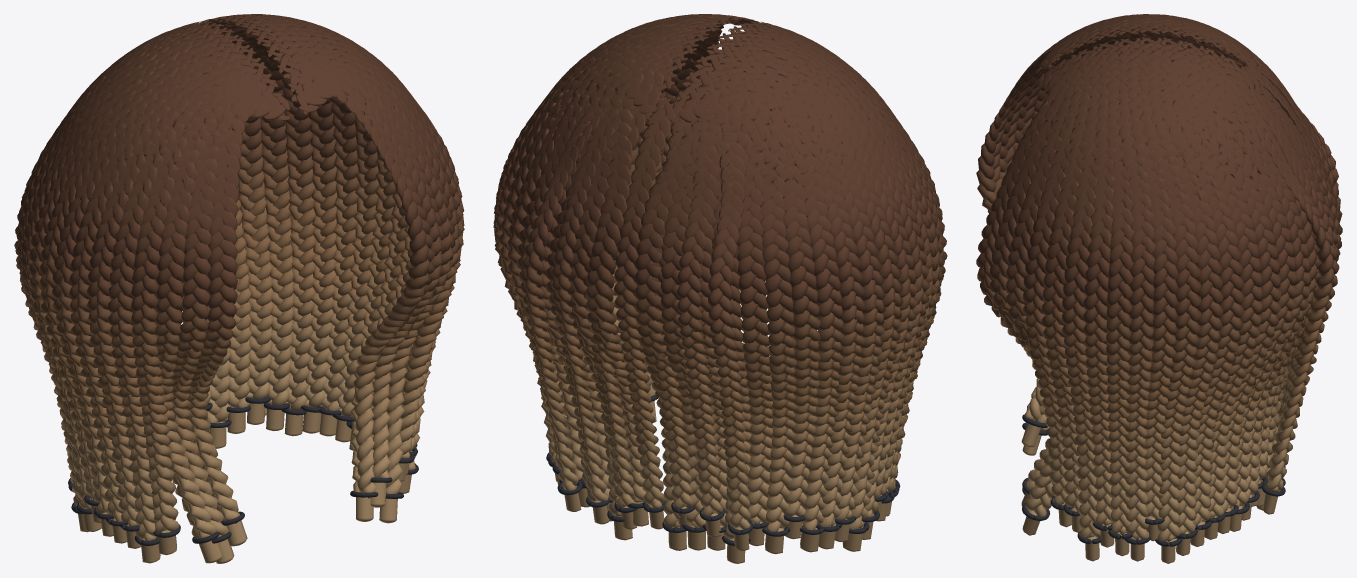
File: Feminine-box-braids-bucket260-hair-ombre.glb
3 renders of one model, left to right at view 1: azimuth 30°, elevation 25°; view 2: azimuth 150°, elevation 25°; view 3: azimuth 270°, elevation 25°, orthographic. The views are drawn at different scales.
Visible parts, largest first — view 1: 226 hair / Hair / chestnut226.001, 226 hair / Hair / ties226.001; view 2: 226 hair / Hair / chestnut226.001, 226 hair / Hair / ties226.001; view 3: 226 hair / Hair / chestnut226.001, 226 hair / Hair / ties226.001.
Boxes of the visible parts, x1,y1,x2,y2 form: 226 hair / Hair / chestnut226.001: (14, 14, 464, 563); 226 hair / Hair / ties226.001: (68, 397, 418, 545); 226 hair / Hair / chestnut226.001: (493, 14, 947, 563); 226 hair / Hair / ties226.001: (546, 395, 900, 545); 226 hair / Hair / chestnut226.001: (976, 14, 1342, 563); 226 hair / Hair / ties226.001: (1022, 414, 1285, 546).
Size of the model in its own units: 1.07 by 1.2 by 0.8658.
